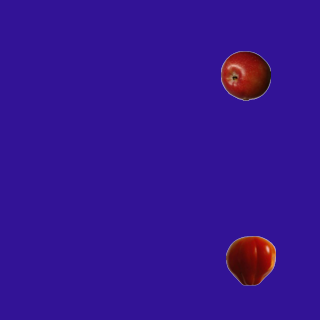Apple Braeburn: (220, 50, 270, 100)
Tomato 1: (225, 235, 275, 285)
